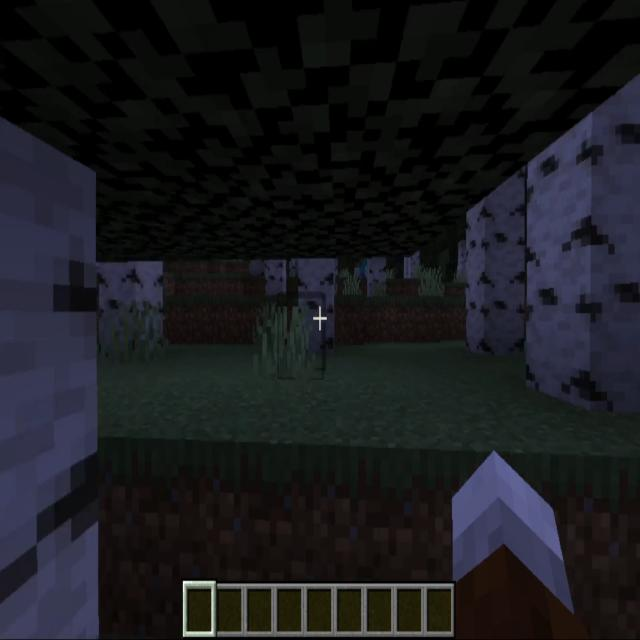Zombie: (359, 246, 369, 284)
